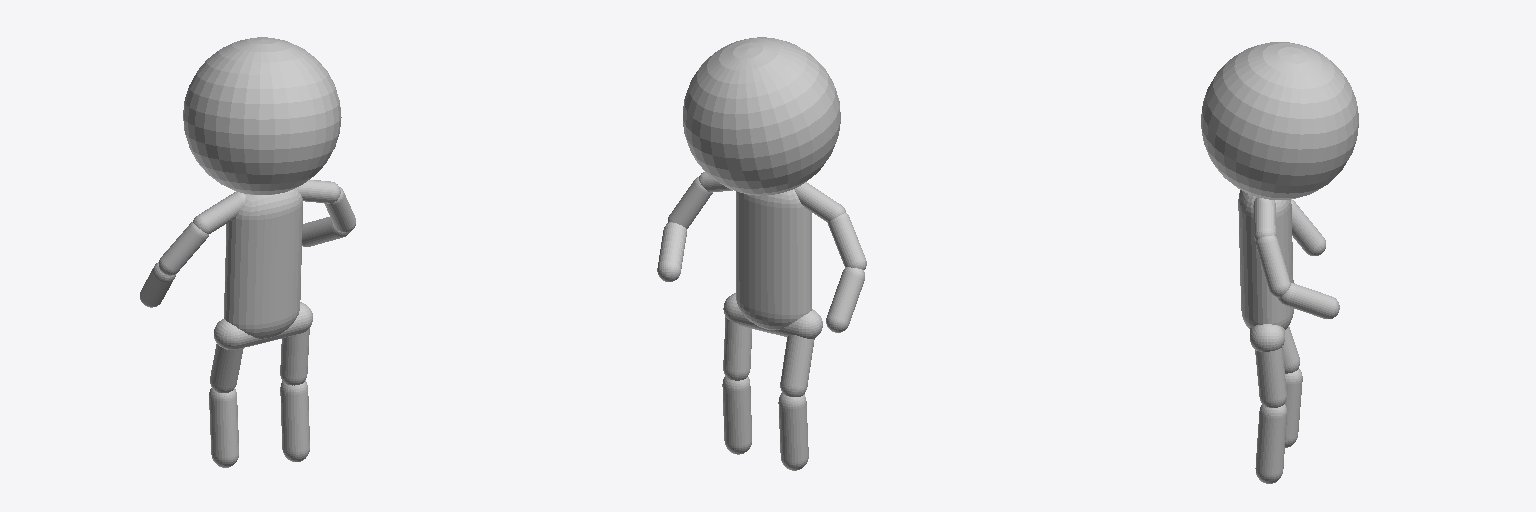
Rendered from Stickman_000045.obj.
The picture shows the model from 3 angles: view 1: azimuth 30°, elevation 25°; view 2: azimuth 150°, elevation 25°; view 3: azimuth 270°, elevation 25°; orthographic projection.
Visible parts, largest first — view 1: Head_Sphere.001, Body_Roundcube.002, LowerLegLeft_Roundcube.013, LowerLegRight_Roundcube.011, Hip_Roundcube.005, UpperLegLeft_Roundcube.012, UpperArmRight_Roundcube.015, UpperLegRight_Roundcube.010, ShoulderRight_Roundcube.014, LowerArmRight_Roundcube.016, LowerArmLeft_Roundcube.019, ShoulderLeft_Roundcube.017 (+1 smaller); view 2: Head_Sphere.001, Body_Roundcube.002, LowerLegLeft_Roundcube.013, LowerLegRight_Roundcube.011, UpperLegRight_Roundcube.010, LowerArmRight_Roundcube.016, UpperLegLeft_Roundcube.012, Hip_Roundcube.005, LowerArmLeft_Roundcube.019, UpperArmRight_Roundcube.015, UpperArmLeft_Roundcube.018, ShoulderRight_Roundcube.014; view 3: Head_Sphere.001, Body_Roundcube.002, LowerLegLeft_Roundcube.013, UpperLegLeft_Roundcube.012, UpperArmLeft_Roundcube.018, LowerArmLeft_Roundcube.019, LowerArmRight_Roundcube.016, LowerLegRight_Roundcube.011, Hip_Roundcube.005, ShoulderLeft_Roundcube.017, UpperLegRight_Roundcube.010.
Part boxes in pixels (bbox=[...]): Head_Sphere.001: bbox=[183, 37, 341, 194]; Body_Roundcube.002: bbox=[224, 188, 302, 338]; LowerLegLeft_Roundcube.013: bbox=[280, 380, 309, 461]; LowerLegRight_Roundcube.011: bbox=[209, 388, 238, 467]; Hip_Roundcube.005: bbox=[214, 302, 312, 349]; UpperLegLeft_Roundcube.012: bbox=[280, 328, 309, 385]; UpperArmRight_Roundcube.015: bbox=[159, 222, 208, 275]; UpperLegRight_Roundcube.010: bbox=[210, 344, 243, 392]; ShoulderRight_Roundcube.014: bbox=[193, 192, 245, 233]; LowerArmRight_Roundcube.016: bbox=[140, 262, 175, 307]; LowerArmLeft_Roundcube.019: bbox=[302, 217, 350, 246]; ShoulderLeft_Roundcube.017: bbox=[296, 180, 340, 203]; Head_Sphere.001: bbox=[683, 37, 840, 195]; Body_Roundcube.002: bbox=[736, 189, 811, 329]; LowerLegLeft_Roundcube.013: bbox=[722, 376, 751, 454]; LowerLegRight_Roundcube.011: bbox=[778, 393, 808, 470]; UpperLegRight_Roundcube.010: bbox=[780, 335, 814, 396]; LowerArmRight_Roundcube.016: bbox=[826, 267, 864, 332]; UpperLegLeft_Roundcube.012: bbox=[723, 317, 751, 380]; Hip_Roundcube.005: bbox=[723, 293, 822, 338]; LowerArmLeft_Roundcube.019: bbox=[657, 222, 686, 281]; UpperArmRight_Roundcube.015: bbox=[828, 213, 866, 269]; UpperArmLeft_Roundcube.018: bbox=[668, 177, 712, 228]; ShoulderRight_Roundcube.014: bbox=[794, 182, 845, 222]; Head_Sphere.001: bbox=[1201, 42, 1358, 199]; Body_Roundcube.002: bbox=[1238, 190, 1293, 329]; LowerLegLeft_Roundcube.013: bbox=[1255, 404, 1286, 483]; UpperLegLeft_Roundcube.012: bbox=[1255, 347, 1286, 407]; UpperArmLeft_Roundcube.018: bbox=[1256, 235, 1290, 297]; LowerArmLeft_Roundcube.019: bbox=[1278, 283, 1339, 318]; LowerArmRight_Roundcube.016: bbox=[1291, 199, 1325, 255]; LowerLegRight_Roundcube.011: bbox=[1285, 369, 1302, 447]; Hip_Roundcube.005: bbox=[1250, 324, 1284, 351]; ShoulderLeft_Roundcube.017: bbox=[1253, 197, 1275, 240]; UpperLegRight_Roundcube.010: bbox=[1282, 326, 1299, 373].
Bounding box in the file's own units: 5.78 × 11.73 × 4.02.